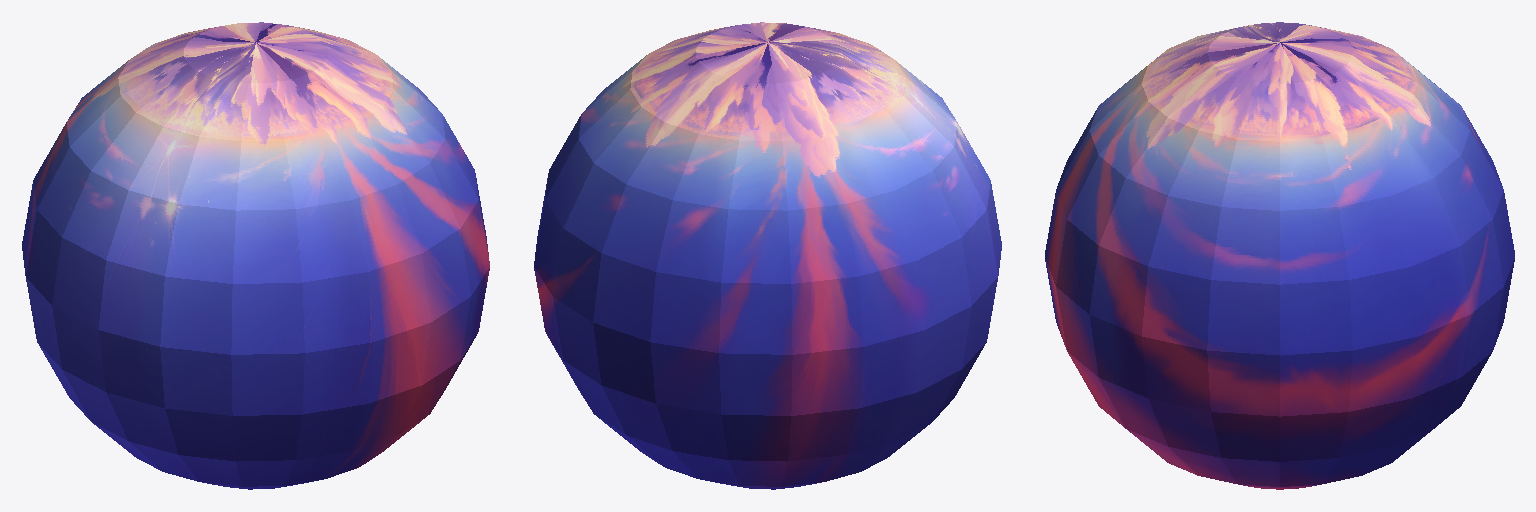
3 views of the same model, side by side, from view 1: azimuth 30°, elevation 25°; view 2: azimuth 150°, elevation 25°; view 3: azimuth 270°, elevation 25° (orthographic).
Visible parts, largest first — view 1: skybox; view 2: skybox; view 3: skybox.
Part boxes in pixels (bbox=[...]): skybox: bbox=[22, 22, 489, 489]; skybox: bbox=[534, 22, 1001, 489]; skybox: bbox=[1045, 22, 1514, 489].
Bounding box in the file's own units: 500 × 500 × 500.
1 materials, 1 textured.